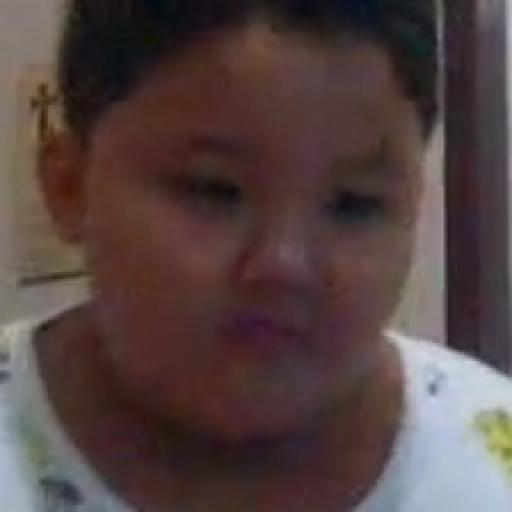Autism: (75, 0, 434, 461)
